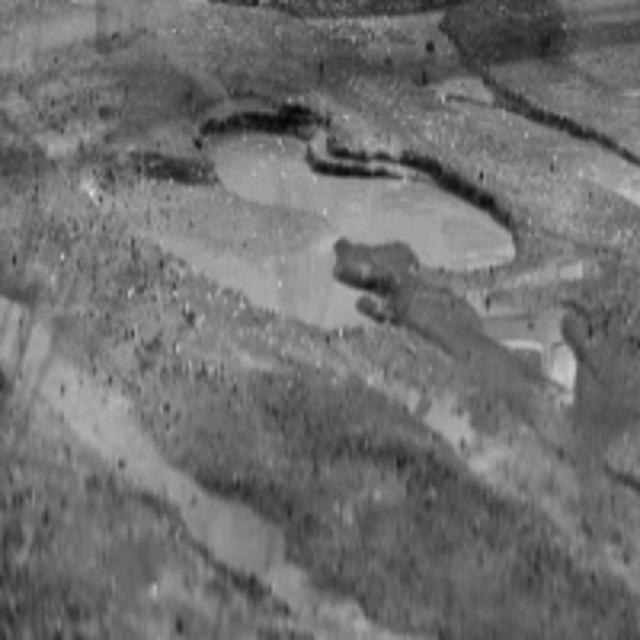Pothole: (0, 284, 262, 575), (217, 66, 536, 304), (361, 5, 640, 198), (476, 288, 582, 375)
